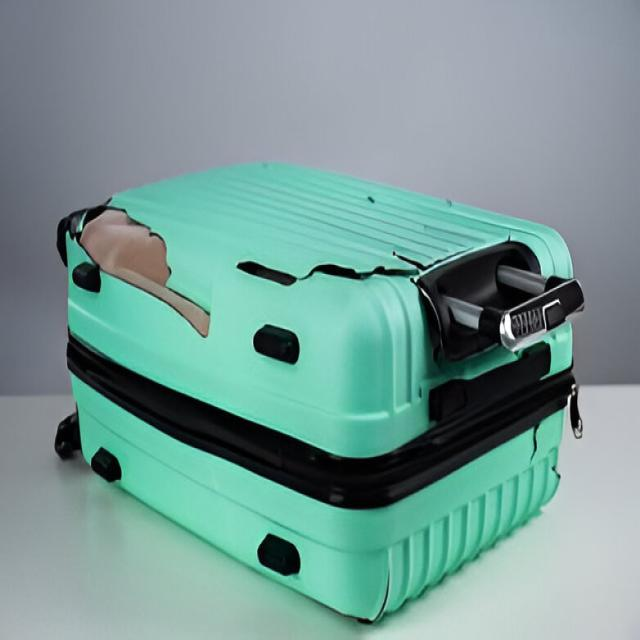Damage-bag: (56, 199, 210, 336), (306, 250, 428, 280), (392, 246, 474, 271), (239, 262, 298, 285), (428, 313, 440, 357), (532, 422, 540, 462), (552, 461, 560, 480)
